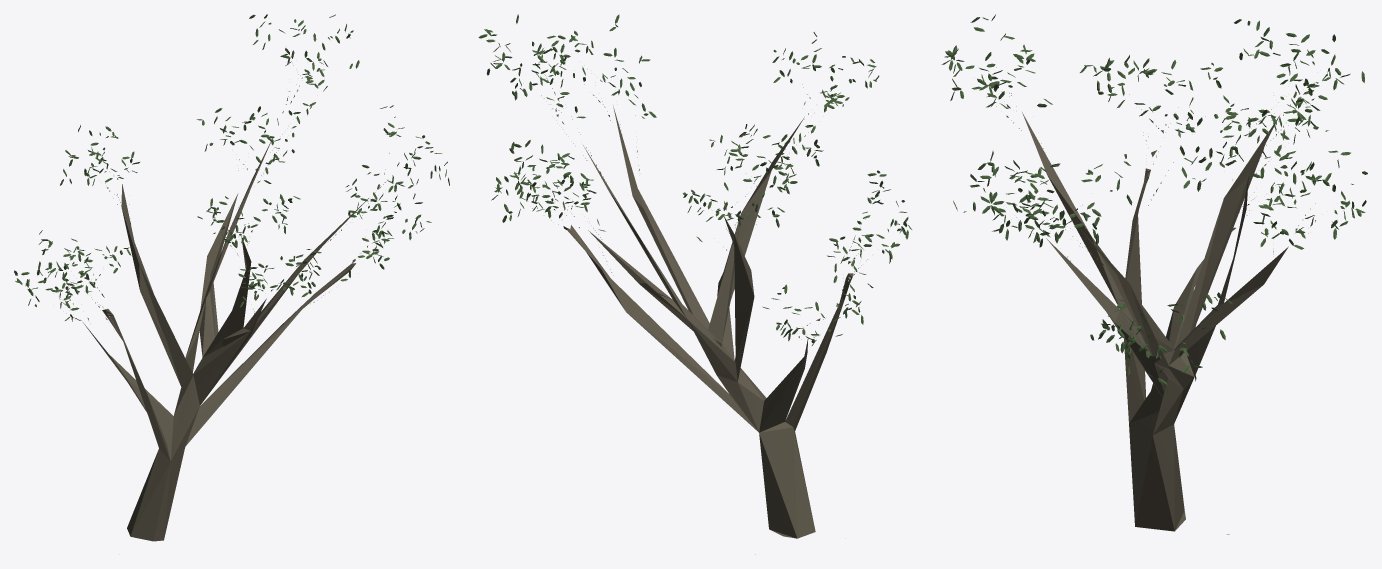
File: CheneVert_2_Niveau1.fbx
The picture shows the model from 3 angles, left to right: view 1: azimuth 30°, elevation 25°; view 2: azimuth 150°, elevation 25°; view 3: azimuth 270°, elevation 25°; orthographic projection. The views are drawn at different scales.
Parts seen in each view (by area): view 1: CheneVert_2_Niveau1; view 2: CheneVert_2_Niveau1; view 3: CheneVert_2_Niveau1.
Part boxes in pixels (left/top/right/bottom): CheneVert_2_Niveau1: left=14, top=14, right=449, bottom=541; CheneVert_2_Niveau1: left=478, top=14, right=911, bottom=554; CheneVert_2_Niveau1: left=941, top=14, right=1367, bottom=534.
Size of the model in its own units: 422 by 481 by 314.
